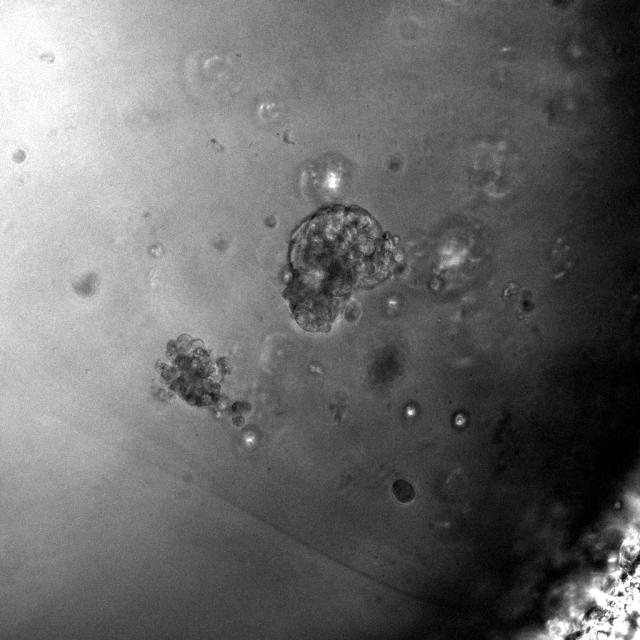organoid: (282, 204, 405, 333), (155, 334, 252, 426), (391, 478, 415, 503), (519, 290, 534, 313), (11, 148, 26, 163)
